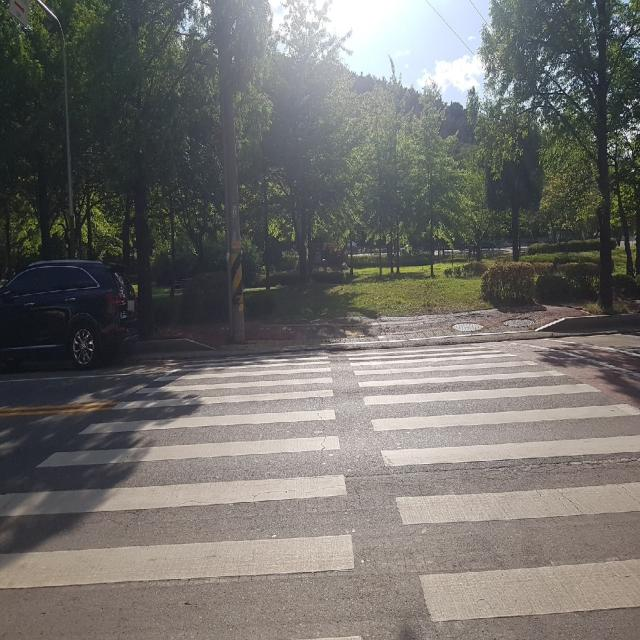횡단보도: (0, 341, 640, 640)
